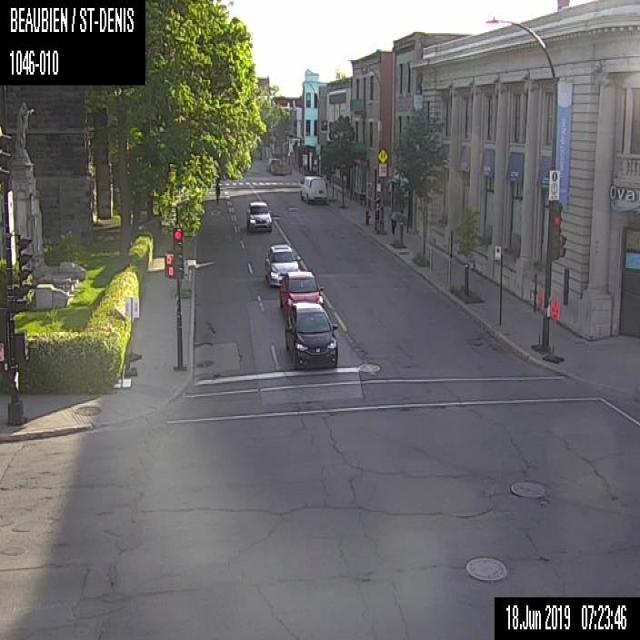construction: (542, 298, 564, 362), (530, 287, 544, 351)
cyclist: (215, 182, 220, 204)
vehicle: (284, 301, 338, 367), (278, 270, 323, 308), (264, 242, 300, 286), (245, 197, 271, 231), (301, 170, 327, 202)
